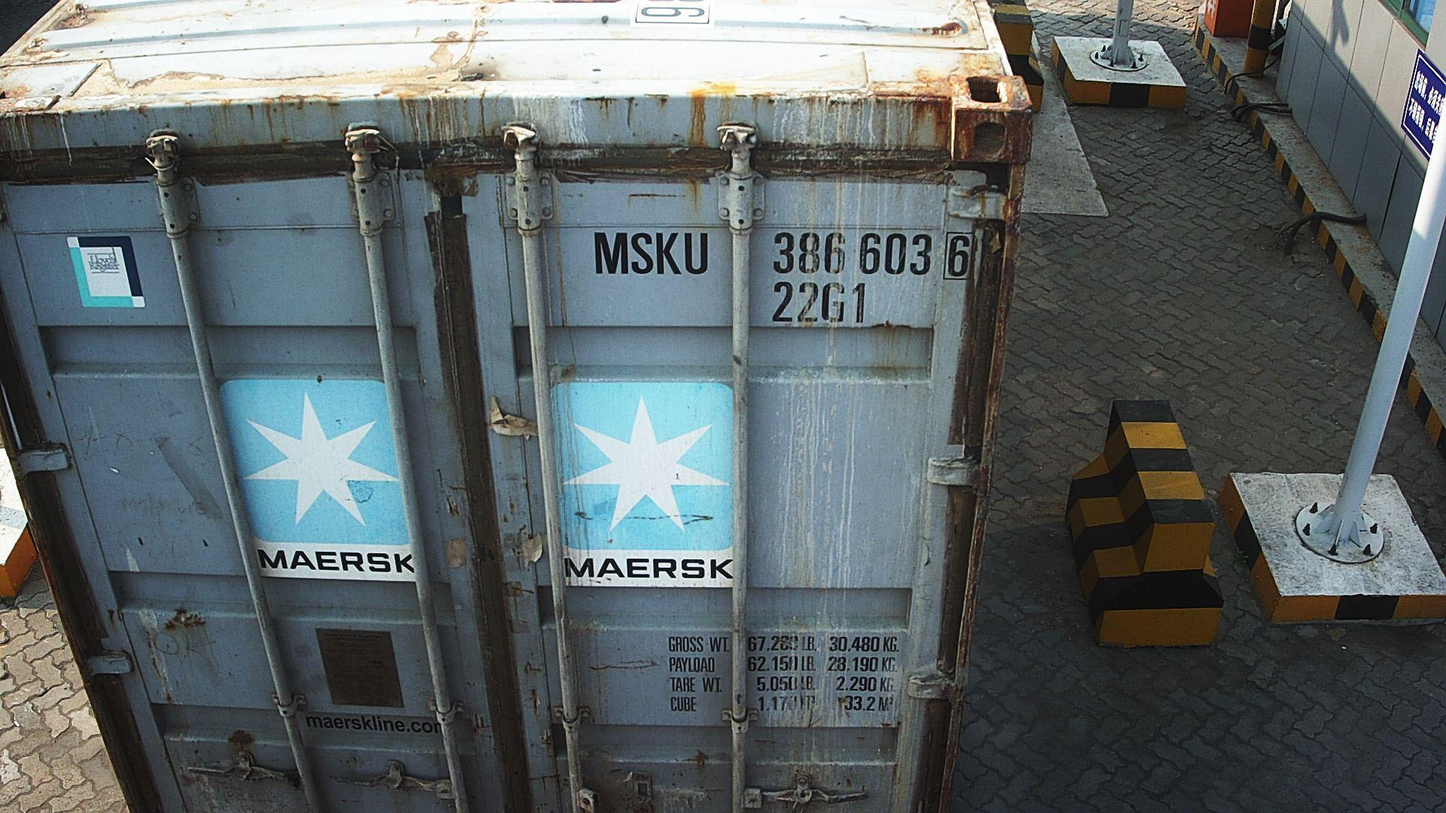container-numbers: (590, 228, 982, 282), (768, 281, 872, 331)
